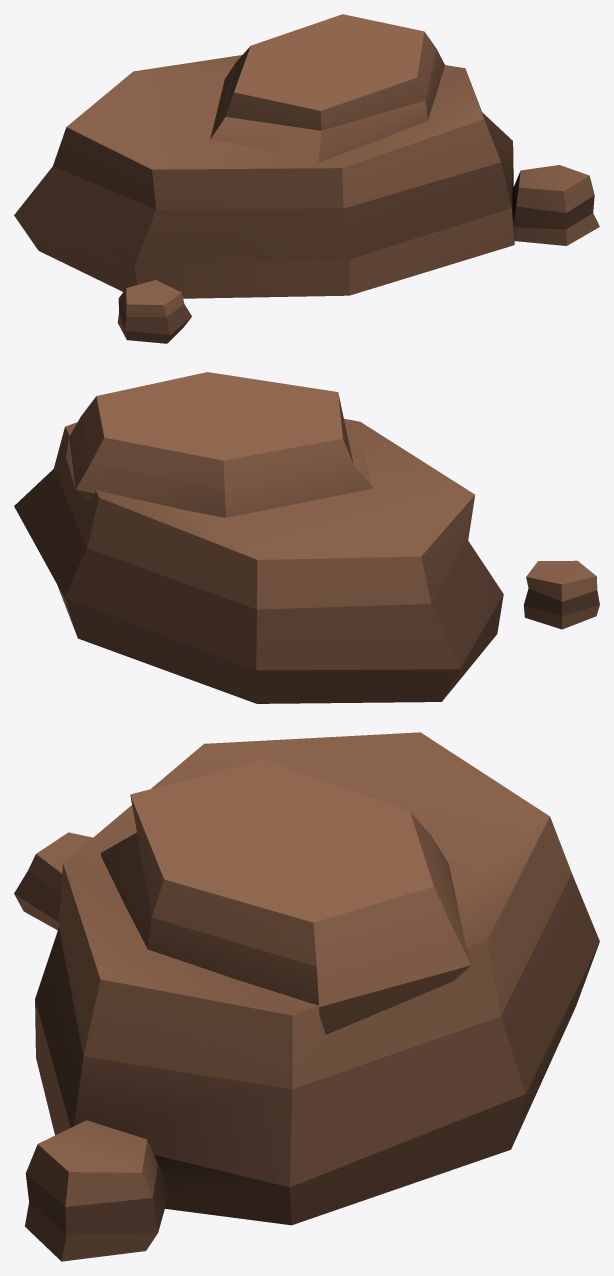
Rendered from rocher_b.glb.
3 views of the same model, one above another, from view 1: azimuth 30°, elevation 25°; view 2: azimuth 150°, elevation 25°; view 3: azimuth 270°, elevation 25° (orthographic). The views are drawn at different scales.
Parts seen in each view (by area): view 1: rocher_b; view 2: rocher_b; view 3: rocher_b.
Part boxes in pixels (x1=…): rocher_b: x1=14, y1=14, x2=599, y2=343; rocher_b: x1=14, y1=372, x2=599, y2=703; rocher_b: x1=14, y1=732, x2=599, y2=1261.
Bounding box in the file's own units: 1.2 × 0.3943 × 0.7939.
